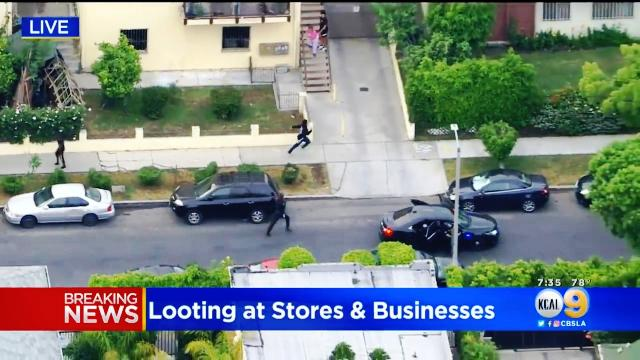berlari: (258, 187, 294, 240), (282, 115, 318, 157)
